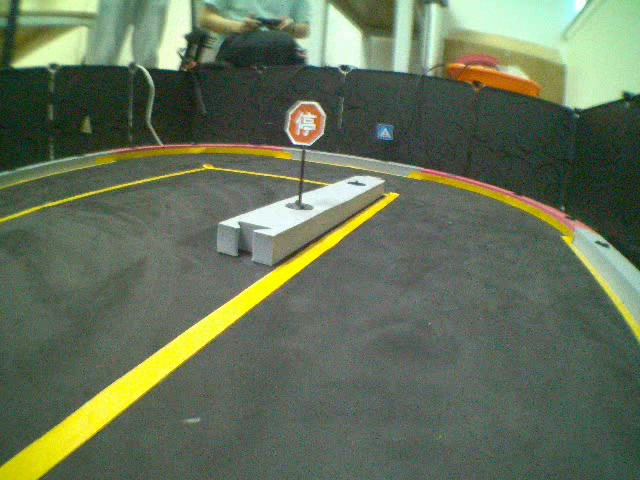Stop: (284, 97, 330, 152)
crossing: (376, 119, 397, 146)
